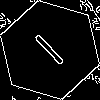I: (25, 25, 67, 68)
